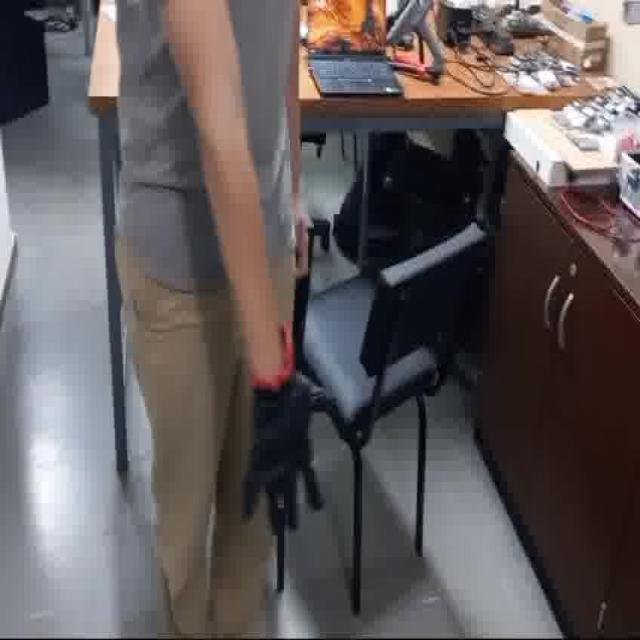Gloves: (233, 327, 356, 538)
